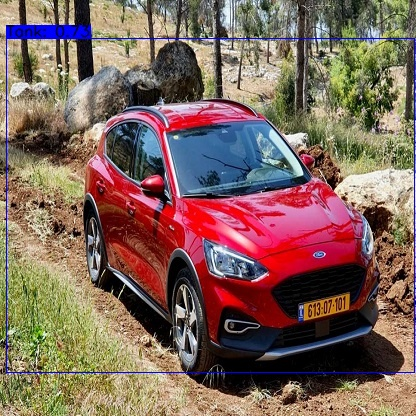Tank: (82, 96, 386, 379)
